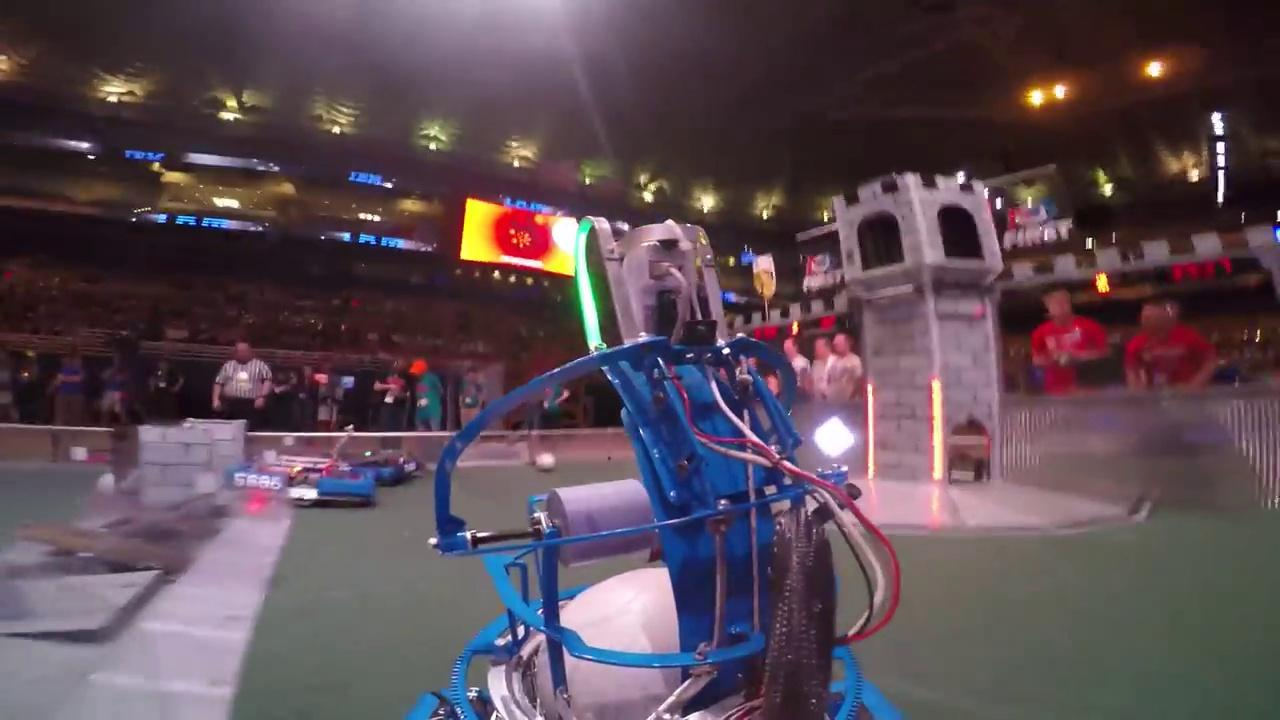robot: (222, 434, 384, 510), (339, 444, 427, 491)
